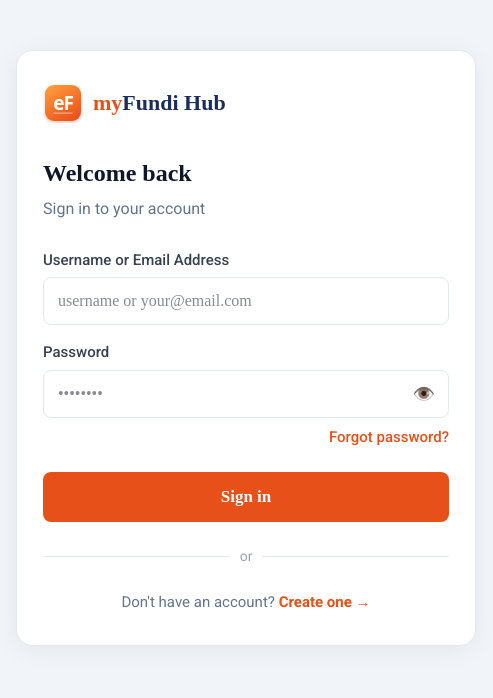
Scenario: LoginPage › shows an error message on failed login
The image size is (493, 698).
Type "wrong" into the field named "username" at (246, 301), box [43,277,449,325]
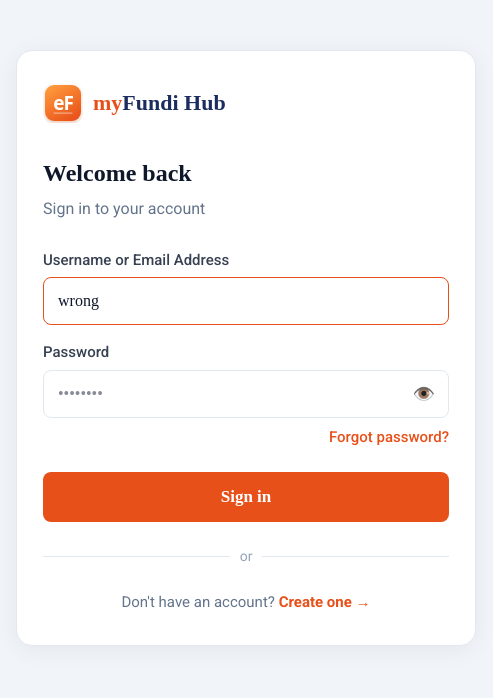
Type "wrong" into the password field named "password" at (246, 394), box [43,370,449,418]
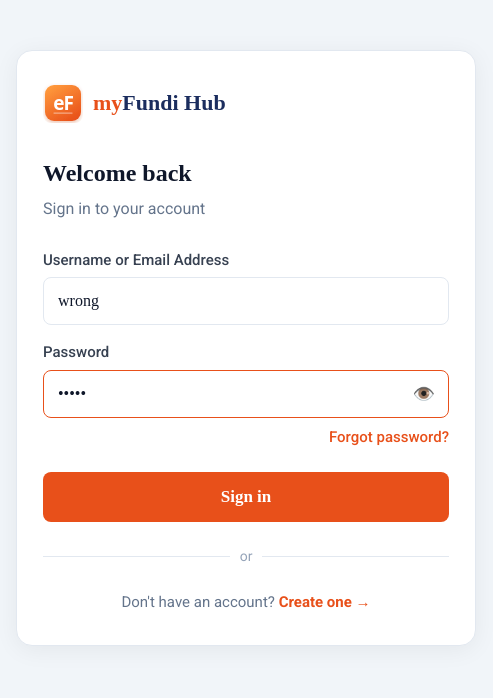
Click the button "Sign in" at (246, 497), box [43,472,449,522]
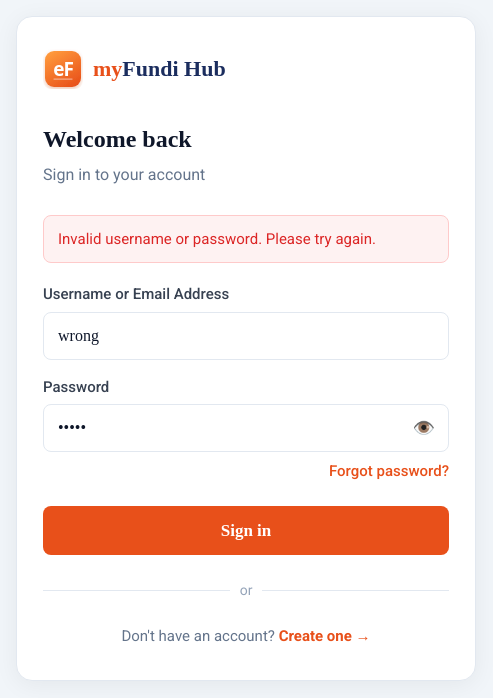
Expected: the text "Invalid username or password. Please try again." is shown, [43,214,449,263]
